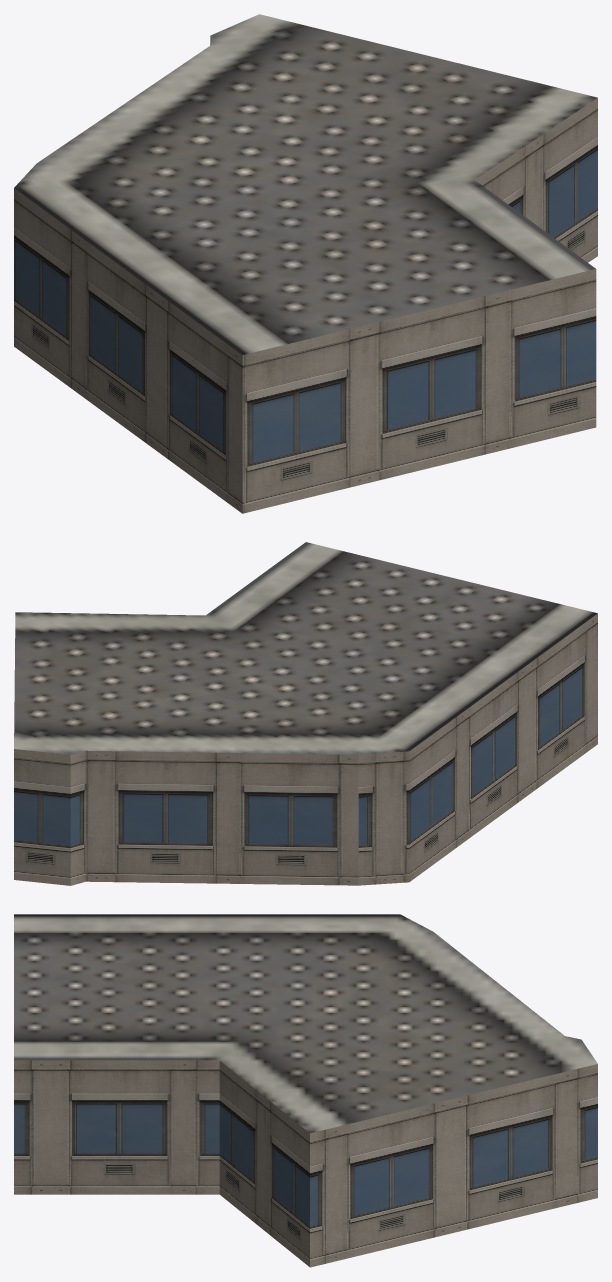
The model's file is building_light_a_10.glb.
3 renders of one model, top to bottom at view 1: azimuth 30°, elevation 25°; view 2: azimuth 150°, elevation 25°; view 3: azimuth 270°, elevation 25°, orthographic. The views are drawn at different scales.
Parts seen in each view (by area): view 1: buildings/saxarba/building_light/building_light_a_10; view 2: buildings/saxarba/building_light/building_light_a_10; view 3: buildings/saxarba/building_light/building_light_a_10.
Part boxes in pixels (left/top/right/bottom): buildings/saxarba/building_light/building_light_a_10: left=14, top=14, right=597, bottom=513; buildings/saxarba/building_light/building_light_a_10: left=14, top=542, right=597, bottom=885; buildings/saxarba/building_light/building_light_a_10: left=14, top=914, right=597, bottom=1267.
Bounding box in the file's own units: 63 × 18 × 71.
